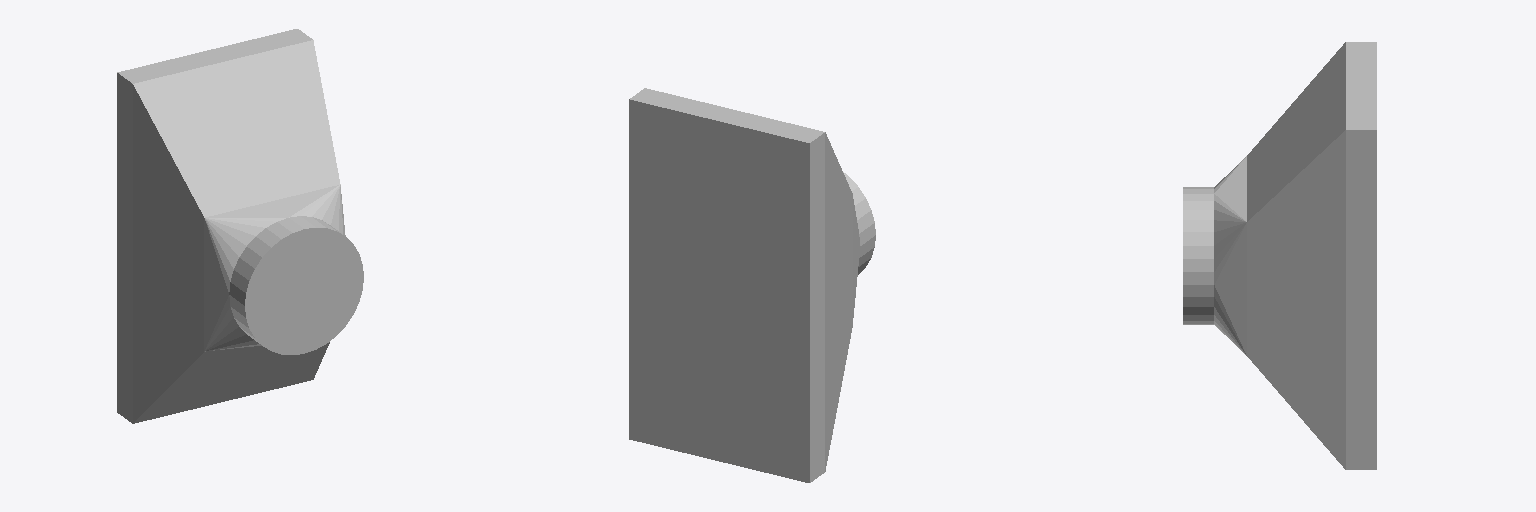
File: fan_tube_salidacople.obj
3 renders of one model, left to right at view 1: azimuth 30°, elevation 25°; view 2: azimuth 150°, elevation 25°; view 3: azimuth 270°, elevation 25°, orthographic.
Parts seen in each view (by area): view 1: Cube_Cube.001; view 2: Cube_Cube.001; view 3: Cube_Cube.001.
Boxes of the visible parts, x1,y1,x2,y2 form: Cube_Cube.001: [117, 29, 363, 423]; Cube_Cube.001: [629, 88, 875, 482]; Cube_Cube.001: [1183, 42, 1376, 469].
Size of the model in its own units: 0.0333 by 0.06 by 0.031.